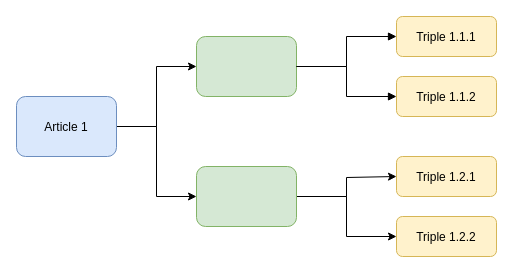
This 513x273 diagram has some shape labels left out. Here are the shapes that lost their labels. From the top down, the centre of each, then its label:
(x=246, y=66): Chunk 1.1
(x=246, y=196): Chunk 1.2
